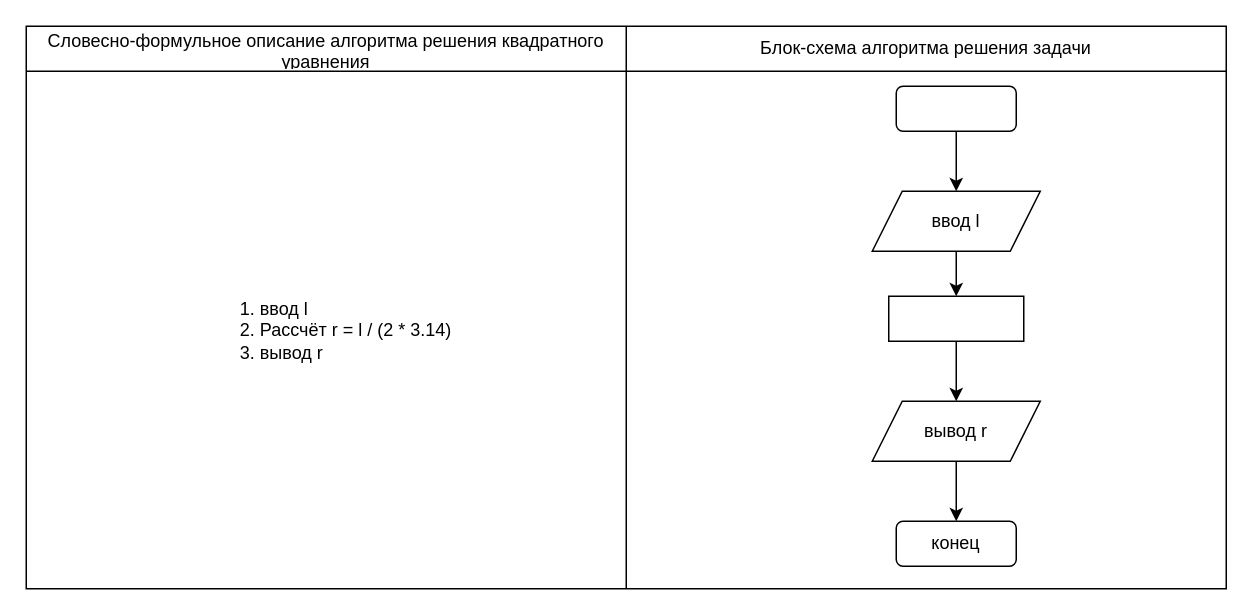
Image size: 1253x615. Some labels were removed from this diagram. The shapes that lost their labels are listed below. From the top down, each one's centre as x and y in pixels, then its label:
(955,108): начало
(955,318): r = l / (2 * 3.14)
